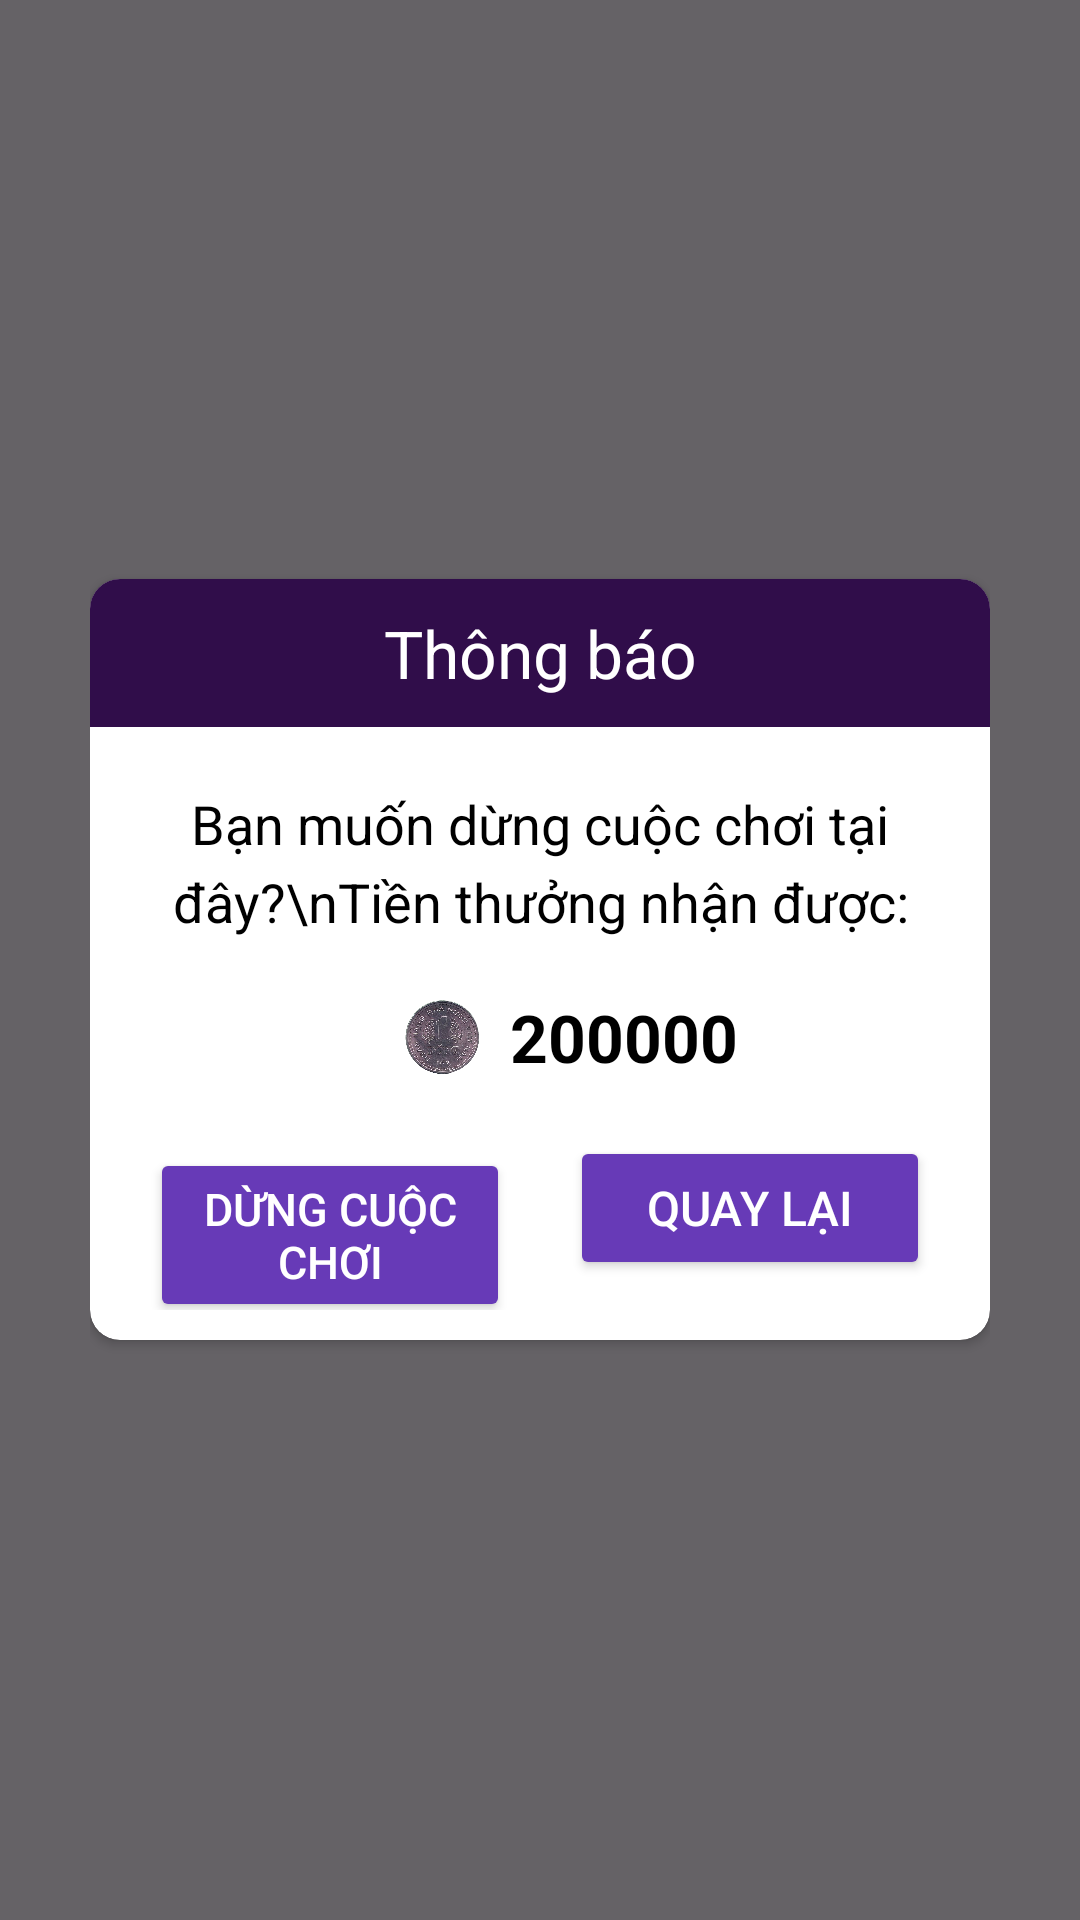

Icon bounding boxes for this 1080w x 1920h phone screenshot, format (x1, y1, x2, y2):
money: (405, 1000, 479, 1074)
